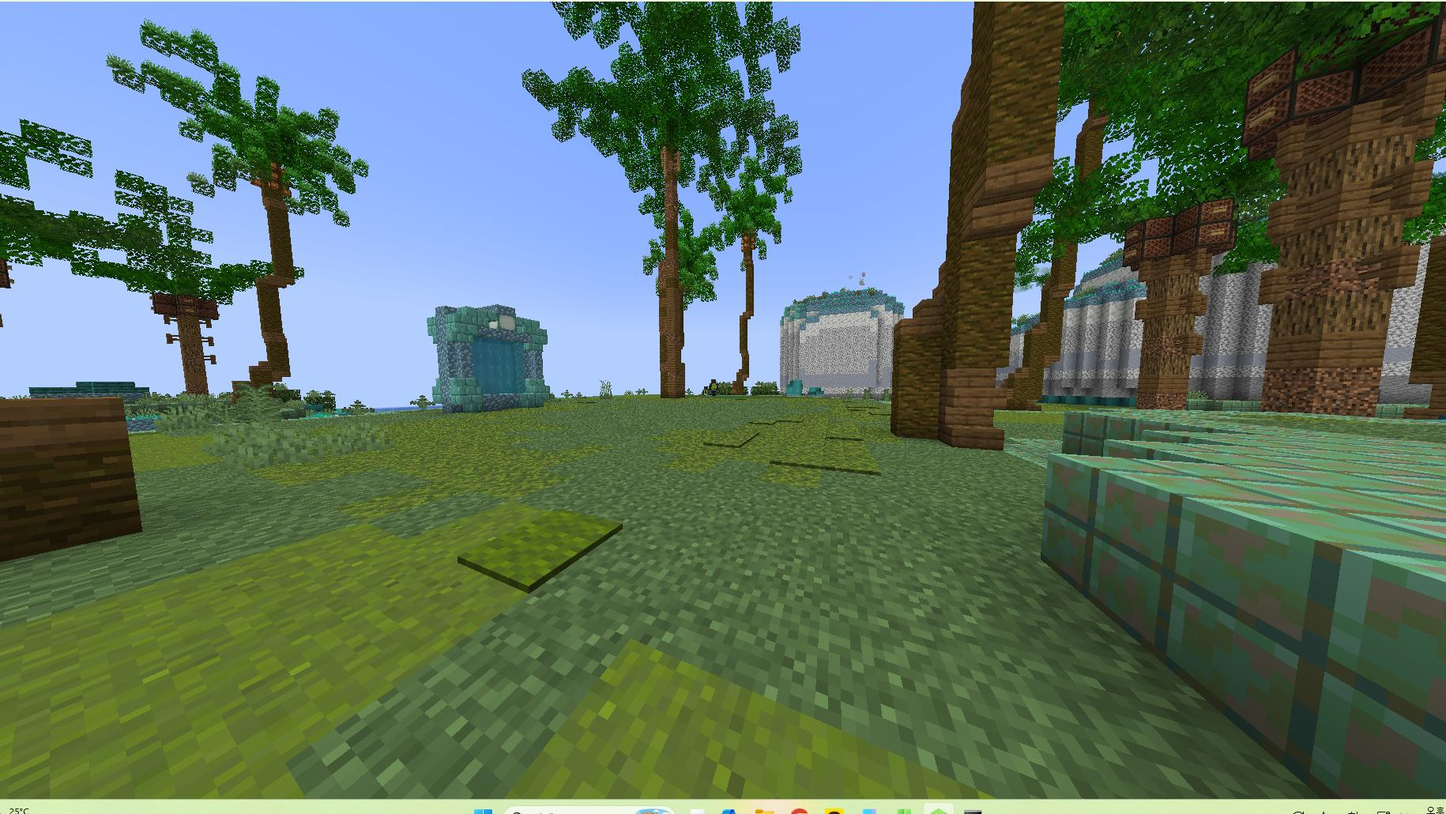Guardian: (703, 379, 722, 395)
